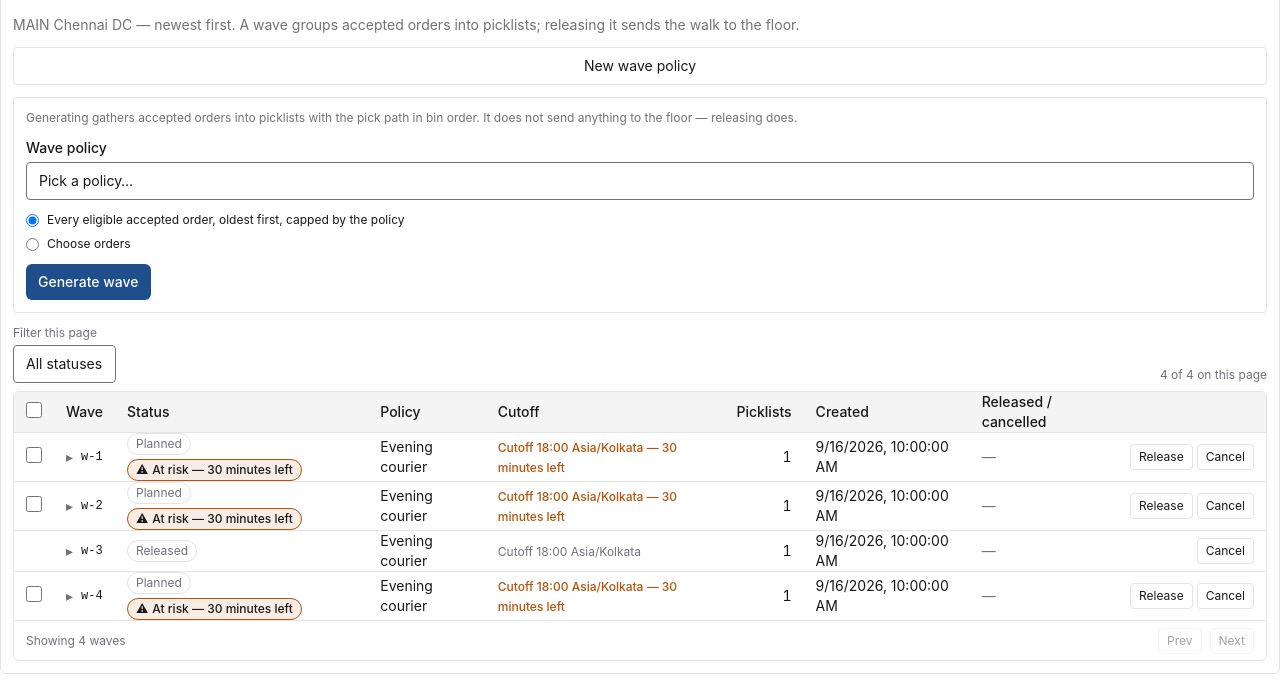
Test: story UI-2: bulk release (UI-PATTERNS §3.5) › only planned waves can be picked; N releases, each its own key; one refusal is named and stays selected
Click the checkbox named "Select all waves on this page": point(34, 410) [26,402,42,418]
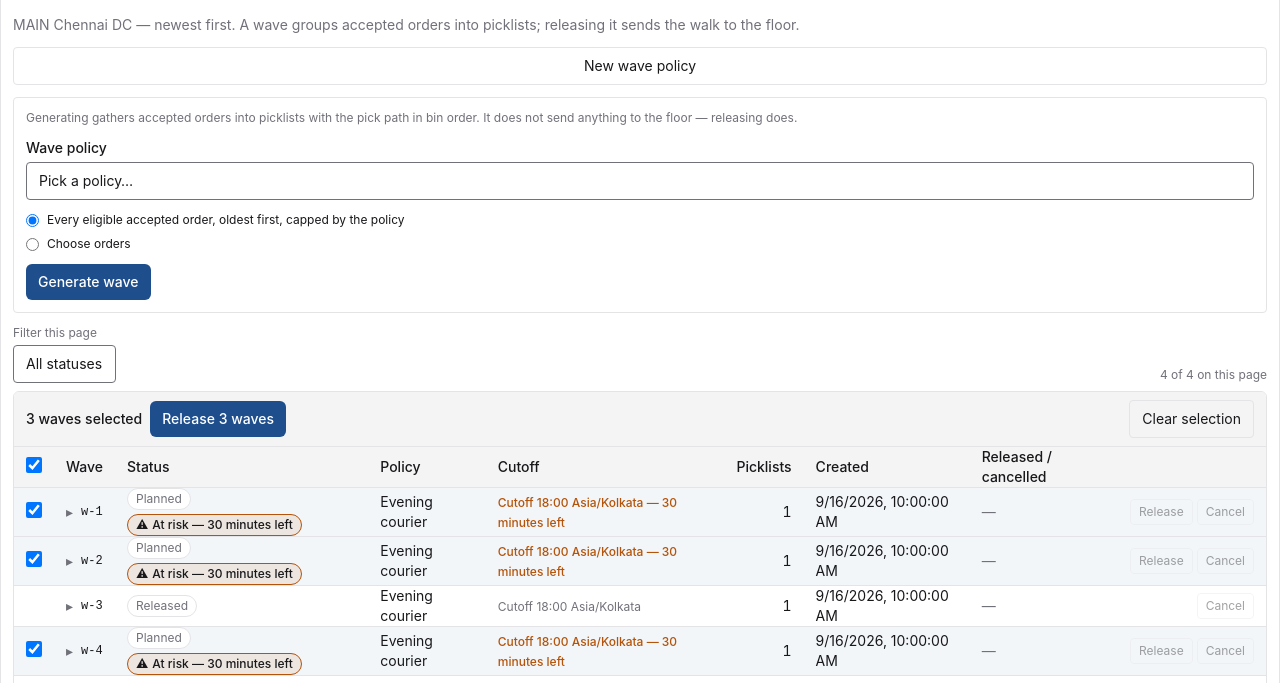
Expected: the text "3 waves selected" is shown, [26,409,142,429]
Click the button "Release 3 waves": point(218, 419) [150,401,286,437]
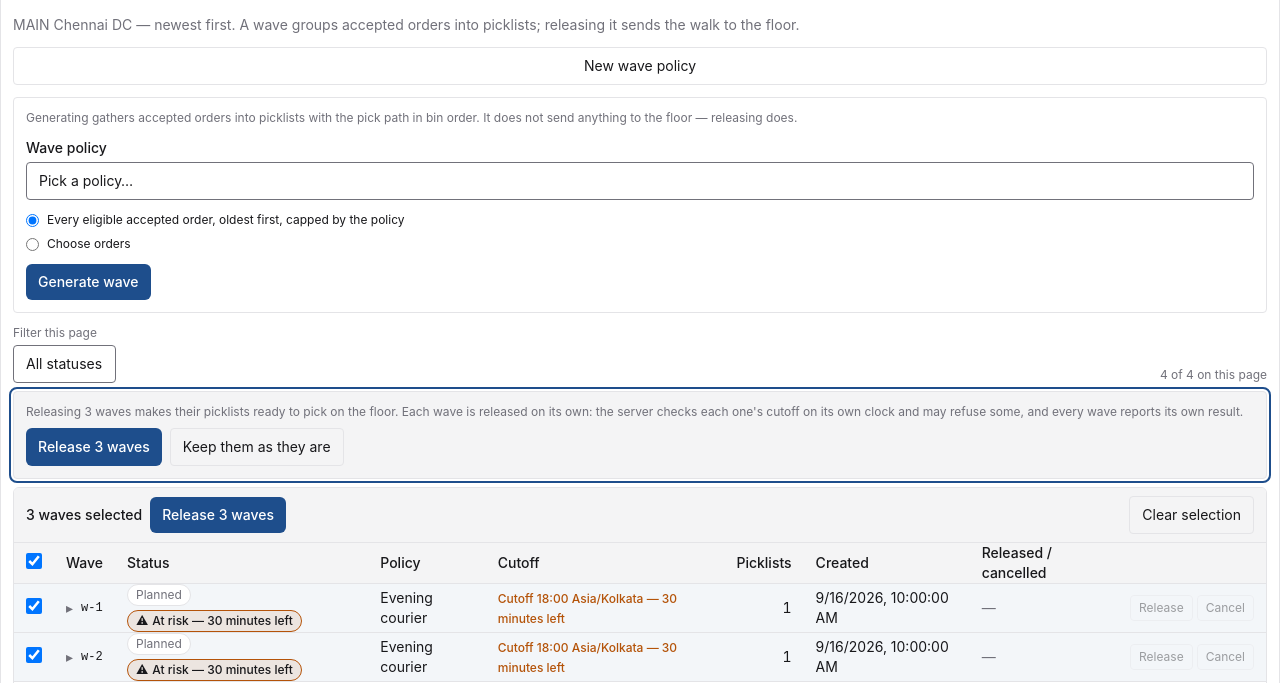
Expected: the element with test id "bulk-release-confirm" is shown, [13,391,1267,479]
Click the button "Release 3 waves" below "waves makes their": point(94, 447) [26,428,162,466]
(page scrolled)
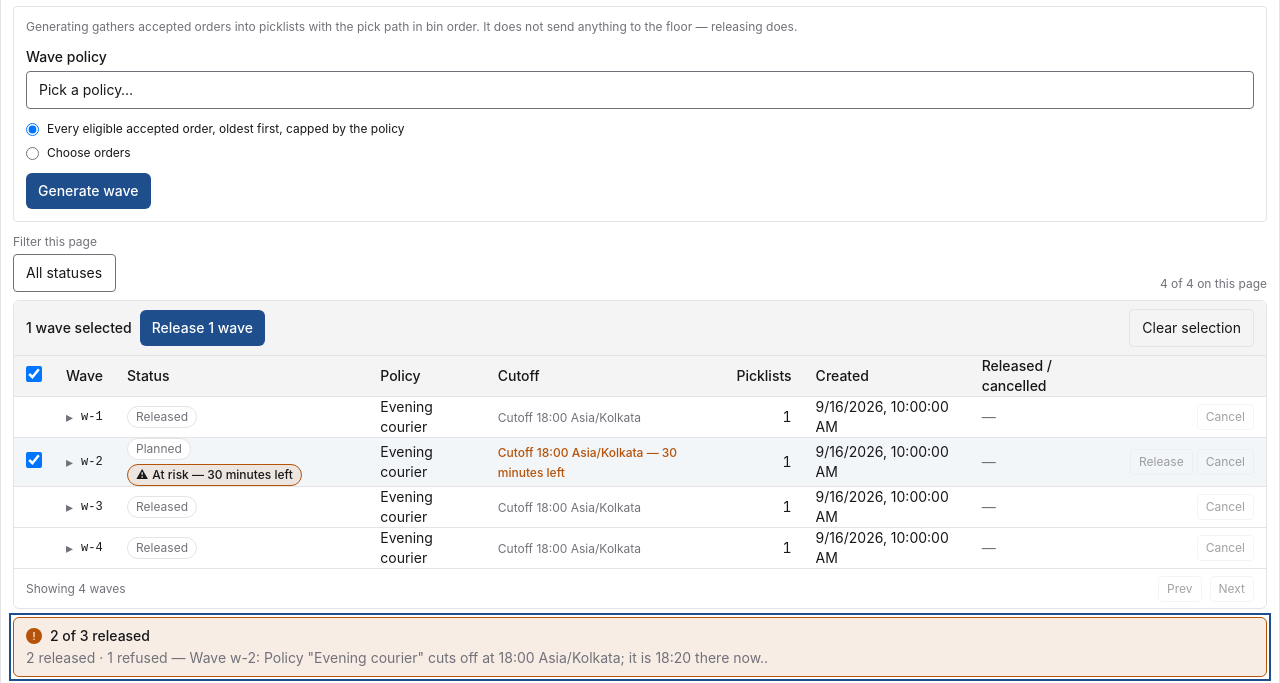
Expected: the text "2 of 3 released" is shown, [50,627,150,644]
Expected: the text "1 wave selected" is shown, [26,318,132,338]
